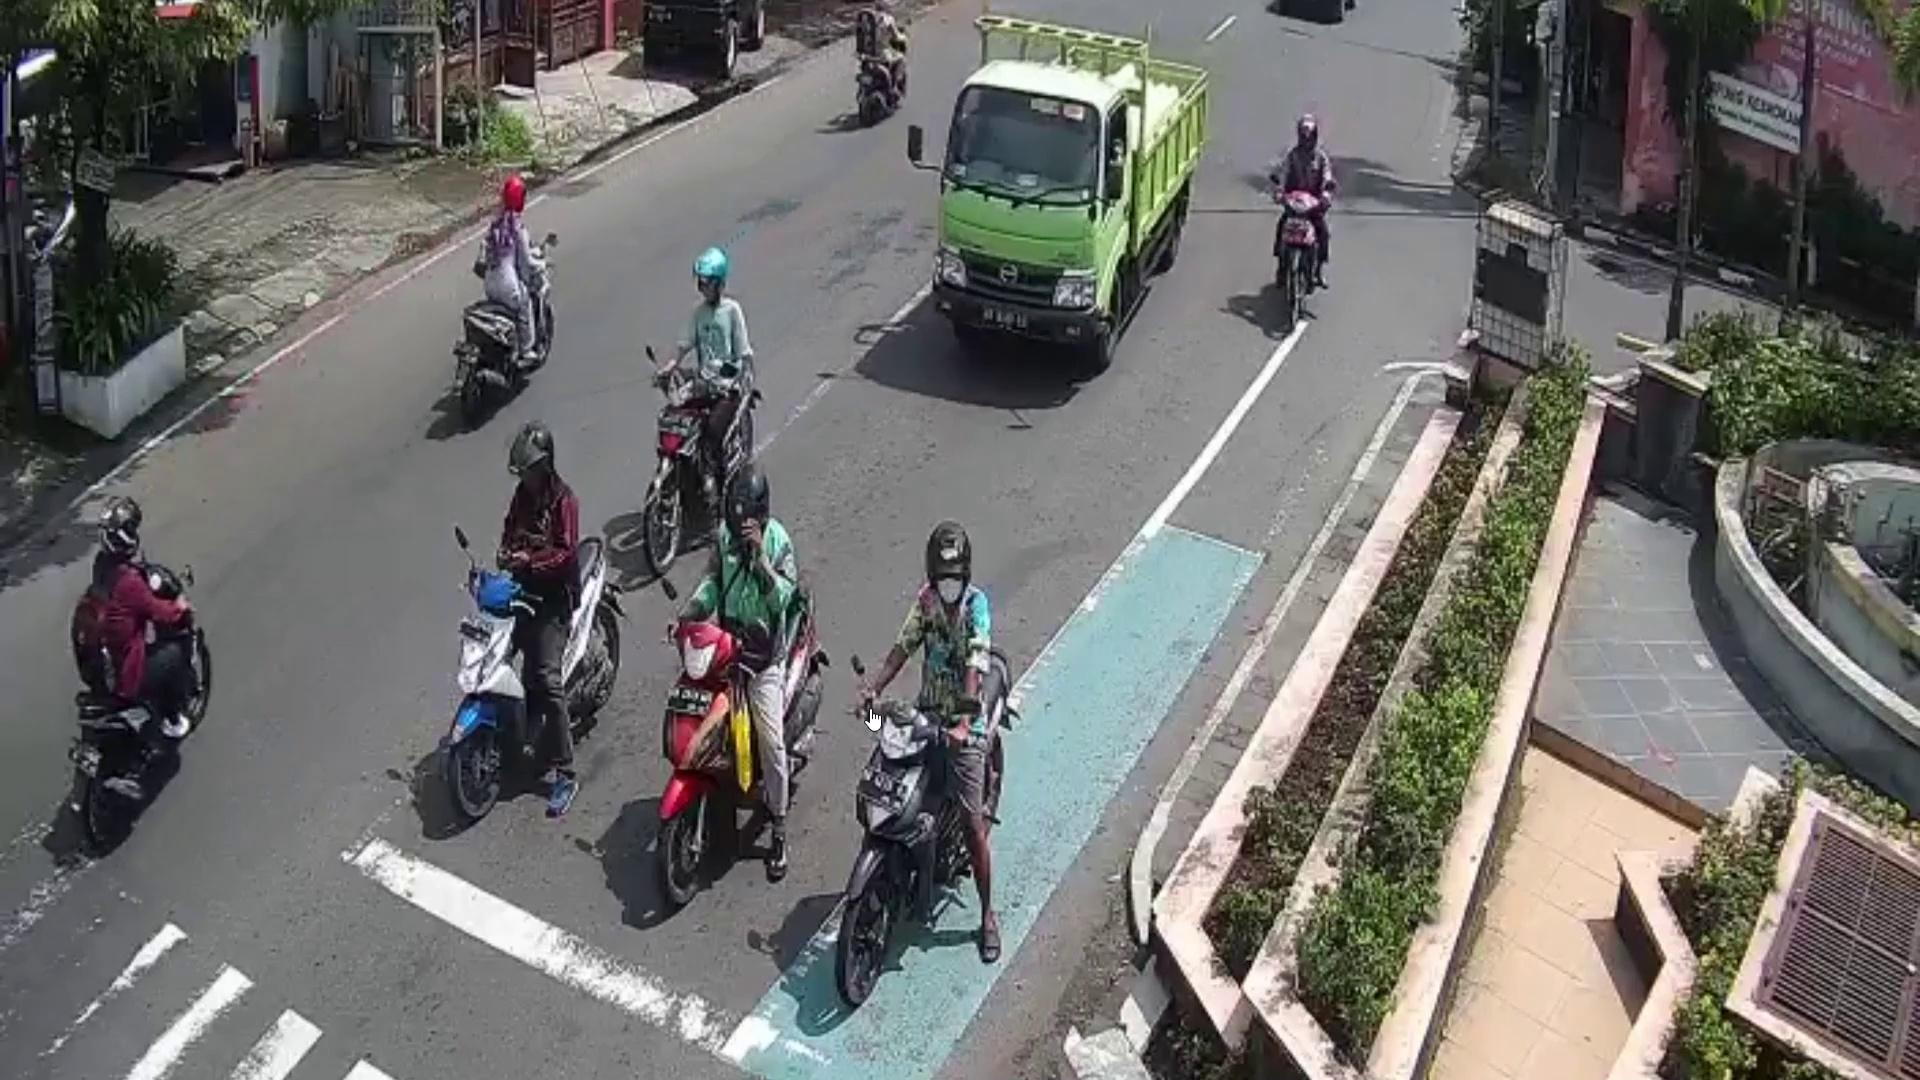motorbike: (844, 650, 1023, 1006), (647, 576, 820, 911), (446, 535, 625, 823), (71, 558, 208, 858), (647, 367, 757, 576), (451, 241, 555, 430), (1273, 182, 1321, 334)
truck: (932, 25, 1208, 364)
